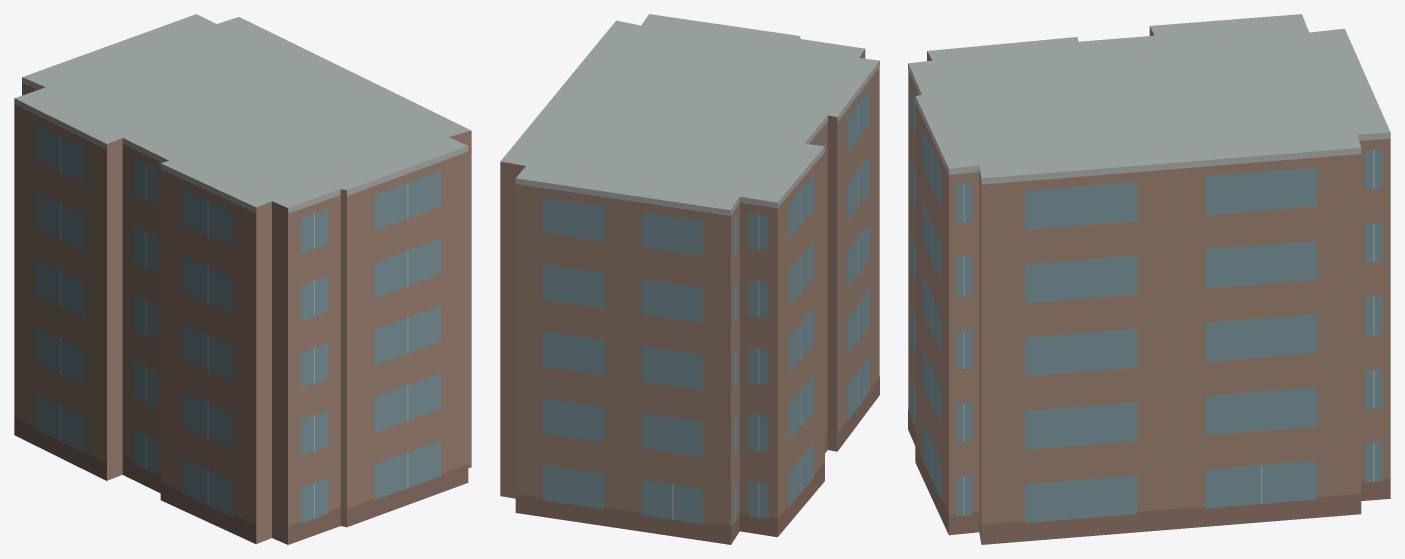
File: survey-upis-32996130.glb
3 views of the same model, side by side, from view 1: azimuth 30°, elevation 25°; view 2: azimuth 150°, elevation 25°; view 3: azimuth 270°, elevation 25° (orthographic). The views are drawn at different scales.
Visible parts, largest first — view 1: survey-upis-32996130.tmp; view 2: survey-upis-32996130.tmp; view 3: survey-upis-32996130.tmp.
Part boxes in pixels (box(x1,y1,x2,y2)): survey-upis-32996130.tmp: box(14, 14, 471, 544); survey-upis-32996130.tmp: box(500, 14, 879, 544); survey-upis-32996130.tmp: box(908, 14, 1390, 544).
Bounding box in the file's own units: 13.78 × 14.3 × 17.07.
